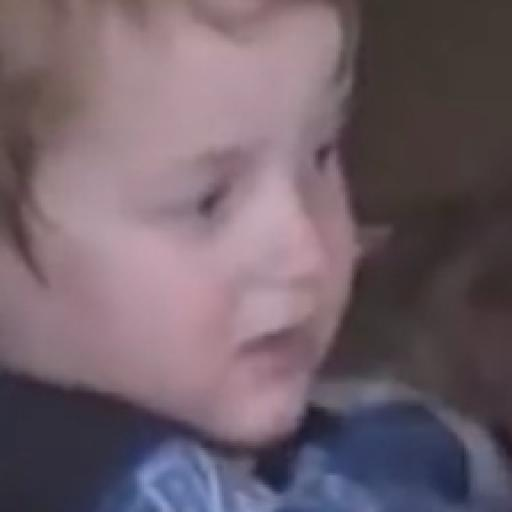Autism: (0, 3, 409, 473)
